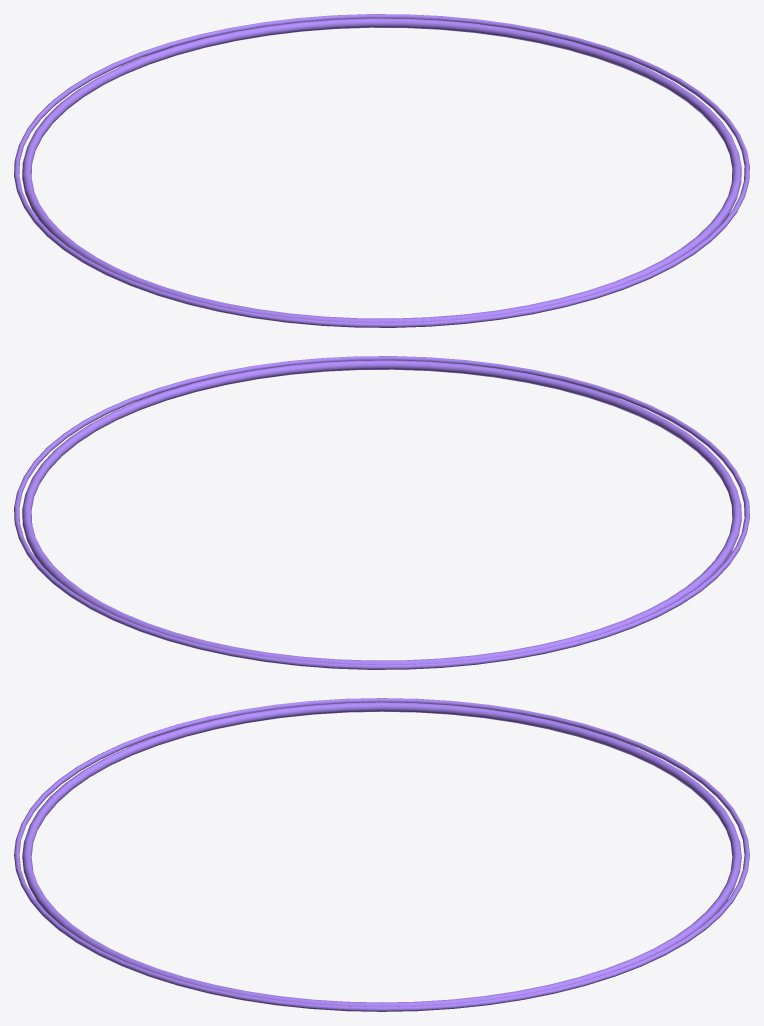
The model's file is RimEnergyRing.glb.
3 renders of one model, top to bottom at view 1: azimuth 30°, elevation 25°; view 2: azimuth 150°, elevation 25°; view 3: azimuth 270°, elevation 25°, orthographic.
Visible parts, largest first — view 1: RimEnergyBlade, RimEnergyHalo; view 2: RimEnergyBlade, RimEnergyHalo; view 3: RimEnergyBlade, RimEnergyHalo.
Part boxes in pixels (box(x1,y1,x2,y2)): RimEnergyBlade: box(22, 18, 741, 327); RimEnergyHalo: box(14, 14, 749, 327); RimEnergyBlade: box(22, 360, 741, 669); RimEnergyHalo: box(14, 356, 749, 669); RimEnergyBlade: box(22, 702, 741, 1011); RimEnergyHalo: box(14, 698, 749, 1011).
Bounding box in the file's own units: 2.17 × 0.0283 × 2.17.
